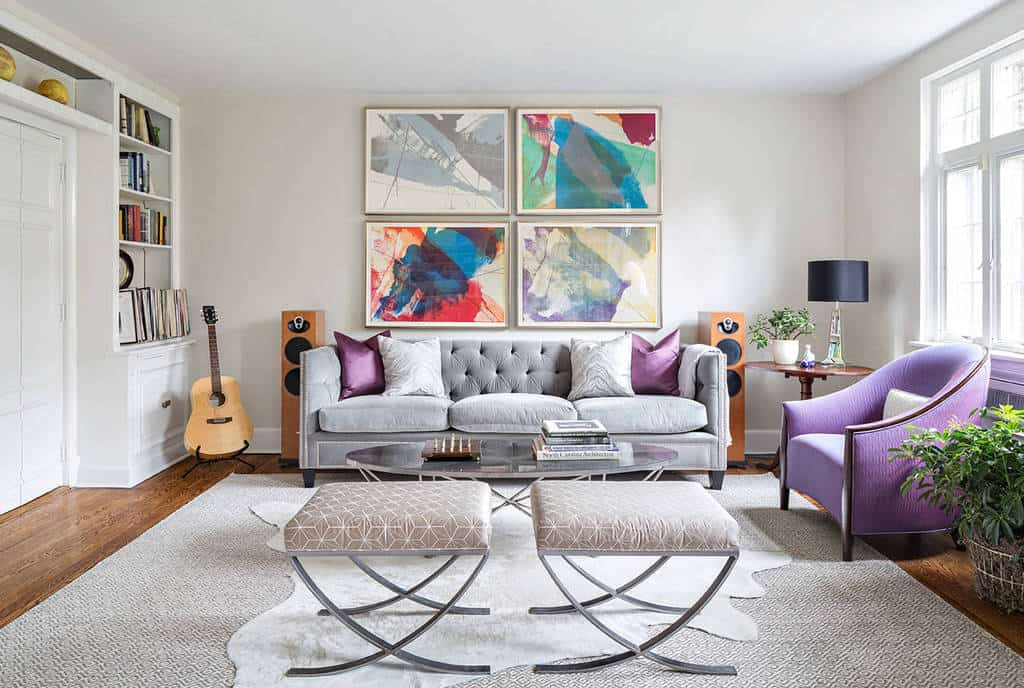coklat: (188, 376, 253, 455), (281, 307, 301, 460)
hitam: (805, 259, 872, 304)
putih: (771, 338, 799, 364)
ungu: (791, 342, 991, 521), (637, 338, 679, 395), (338, 336, 380, 393)
